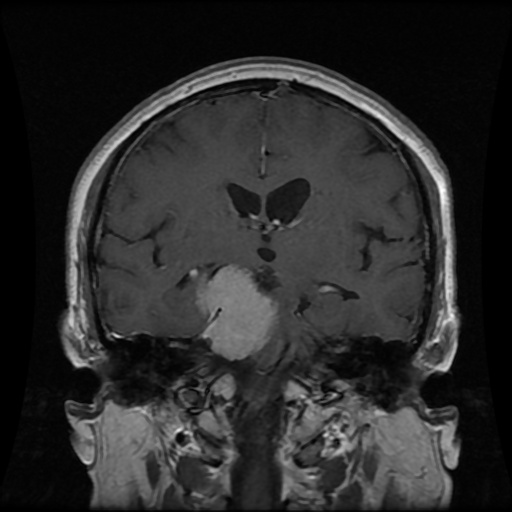meningioma: (198, 263, 278, 359)
